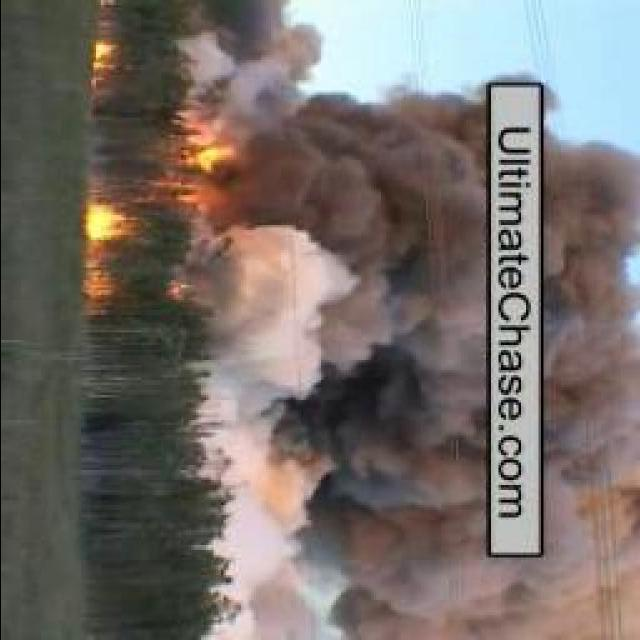Fire: (192, 137, 248, 170), (90, 204, 138, 240), (78, 262, 115, 300), (92, 38, 124, 76)
